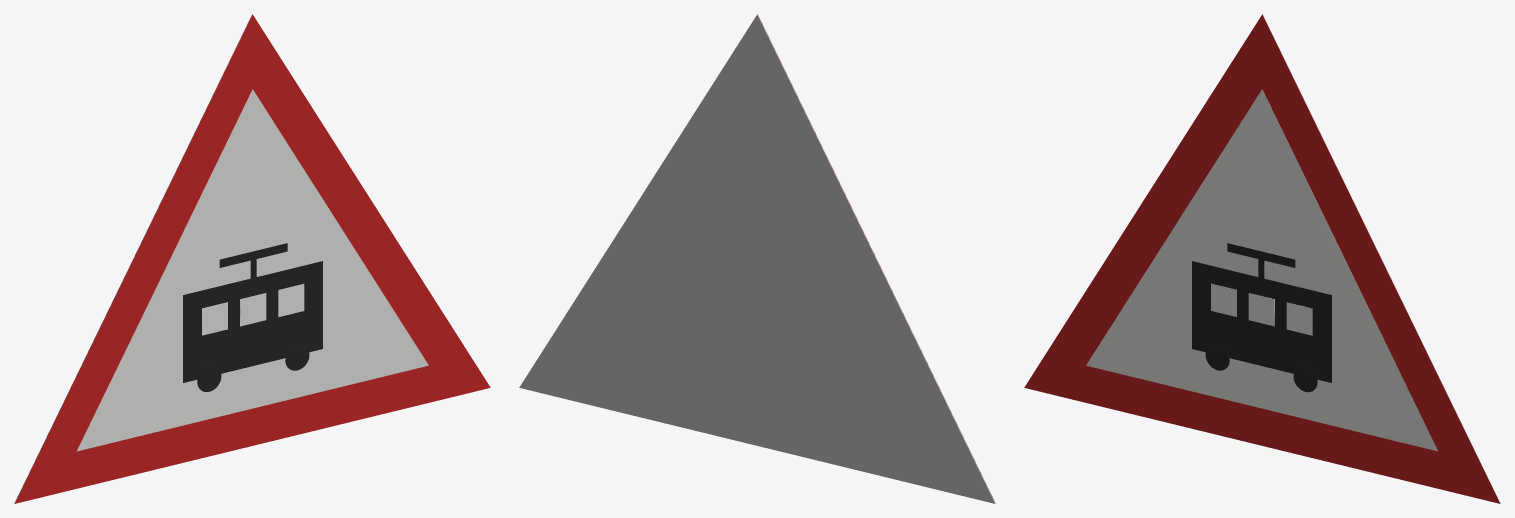
3 renders of one model, left to right at view 1: azimuth 30°, elevation 25°; view 2: azimuth 150°, elevation 25°; view 3: azimuth 330°, elevation 25°, orthographic.
Visible parts, largest first — view 1: A9b_p00, A9b_p01, A9b_p02, A9b_p04, A9b_p05, A9b_p03, A9b_p08, A9b_dos; view 2: A9b_dos; view 3: A9b_p00, A9b_p01, A9b_p02, A9b_p04, A9b_p05, A9b_p03, A9b_p08, A9b_dos.
Part boxes in pixels (x1,y1,x2,y2): A9b_p00: [14, 14, 490, 503]; A9b_p01: [76, 89, 428, 451]; A9b_p02: [183, 261, 322, 382]; A9b_p04: [240, 293, 266, 326]; A9b_p05: [278, 284, 304, 317]; A9b_p03: [202, 302, 227, 335]; A9b_p08: [219, 243, 287, 267]; A9b_dos: [14, 14, 252, 503]; A9b_dos: [519, 14, 995, 503]; A9b_p00: [1024, 14, 1500, 503]; A9b_p01: [1086, 89, 1438, 451]; A9b_p02: [1192, 261, 1331, 382]; A9b_p04: [1248, 293, 1274, 326]; A9b_p05: [1286, 302, 1312, 335]; A9b_p03: [1211, 283, 1236, 316]; A9b_p08: [1227, 243, 1295, 267]; A9b_dos: [1262, 14, 1500, 503].
Size of the model in its own units: 1 by 0.866 by 0.0053.
